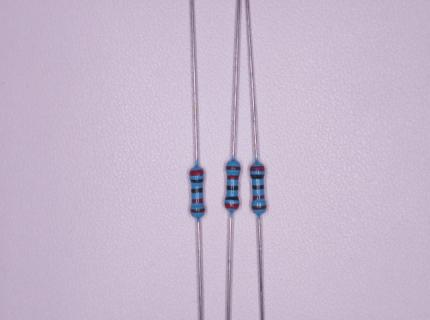Black band: (227, 185, 239, 191), (191, 188, 203, 194), (251, 174, 265, 179), (252, 185, 264, 190), (225, 197, 239, 201), (190, 179, 204, 183)
Brown band: (225, 165, 241, 171), (251, 205, 266, 211), (190, 208, 205, 213)
Red band: (189, 170, 204, 176), (250, 166, 265, 172), (224, 203, 239, 209), (227, 175, 239, 180), (253, 195, 265, 200), (191, 199, 204, 203)
